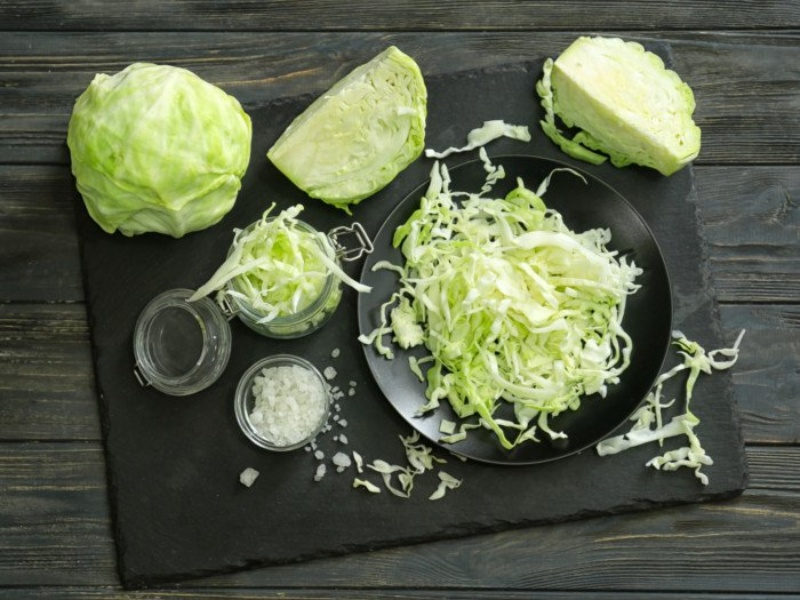Repollo: (52, 58, 264, 247), (529, 24, 731, 192), (256, 37, 442, 215)
